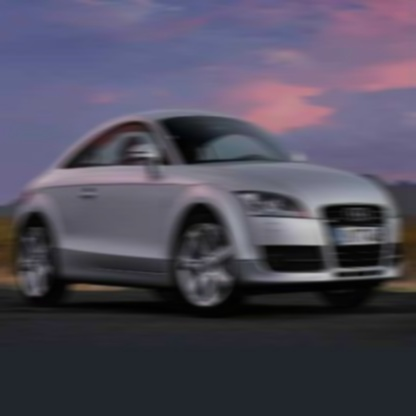Vehicle: (12, 107, 402, 306)
